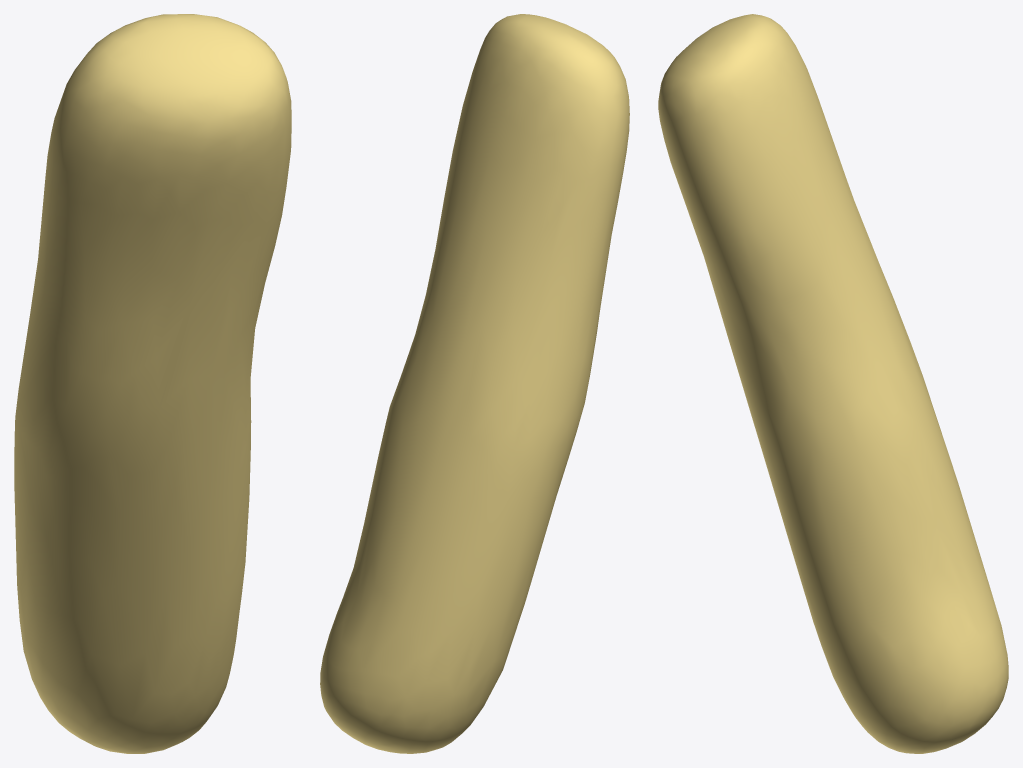
The model's file is fma73735_mm3594m.glb.
3 renders of one model, left to right at view 1: azimuth 30°, elevation 25°; view 2: azimuth 150°, elevation 25°; view 3: azimuth 270°, elevation 25°, orthographic. The views are drawn at different scales.
Visible parts, largest first — view 1: FMA73735_MM3594M; view 2: FMA73735_MM3594M; view 3: FMA73735_MM3594M.
Boxes of the visible parts, x1,y1,x2,y2 form: FMA73735_MM3594M: (14, 14, 291, 753); FMA73735_MM3594M: (320, 14, 629, 753); FMA73735_MM3594M: (658, 14, 1008, 753).
Size of the model in its own units: 0.00498 by 0.0152 by 0.00699.
